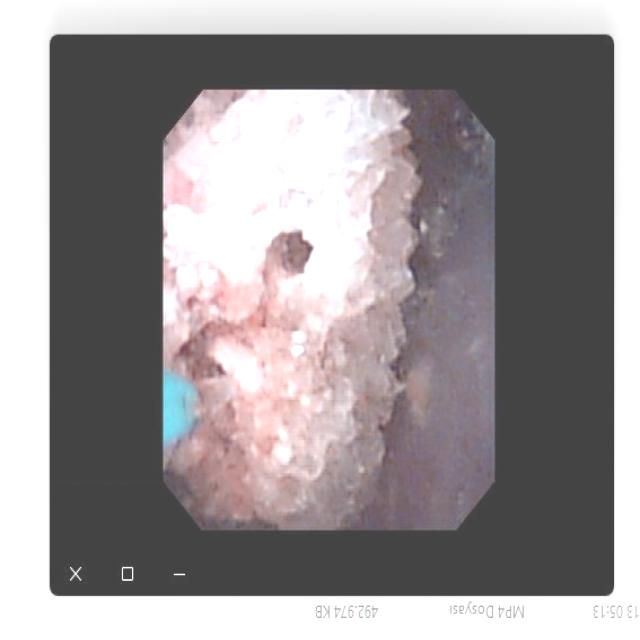stone: (170, 97, 415, 521)
